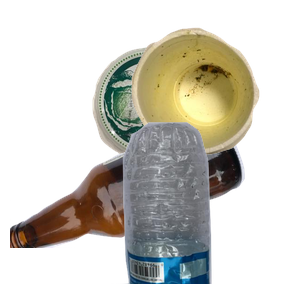glass: (10, 120, 247, 300)
metal: (90, 44, 289, 195)
plastic: (111, 120, 300, 300)
trash: (129, 25, 300, 173)
